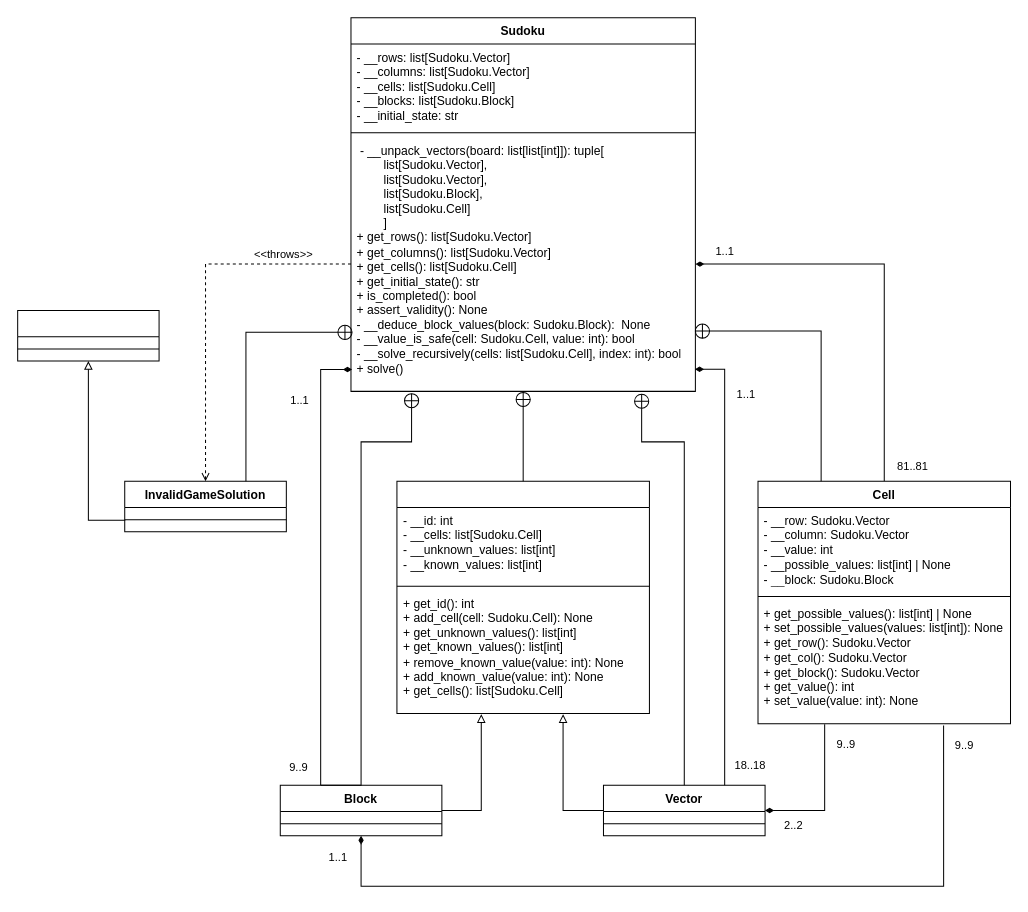
This 1028x912 diagram has some shape labels left out. The shapes that lost their labels are listed below. From the top down, each one's box as (x1, y1, x2, y2) in pixels, then its label:
(17, 310, 159, 361): BaseException
(396, 480, 649, 714): Subsection
